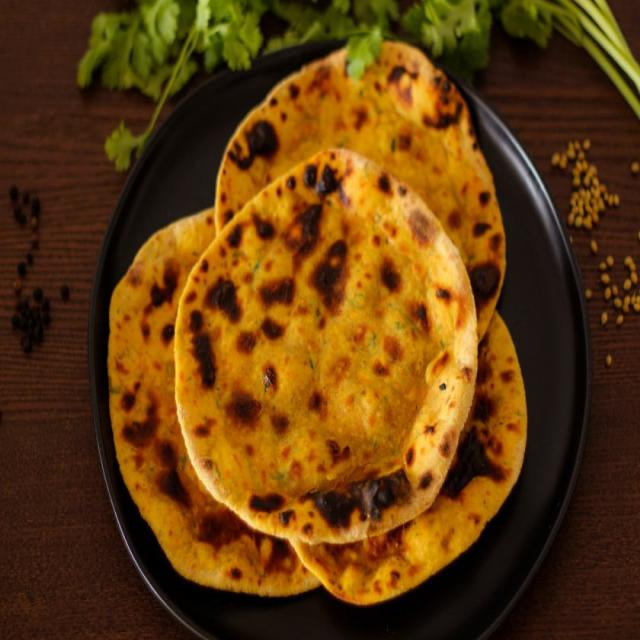chapati: (174, 149, 476, 544), (216, 43, 505, 334), (109, 208, 318, 595), (294, 314, 526, 603)
